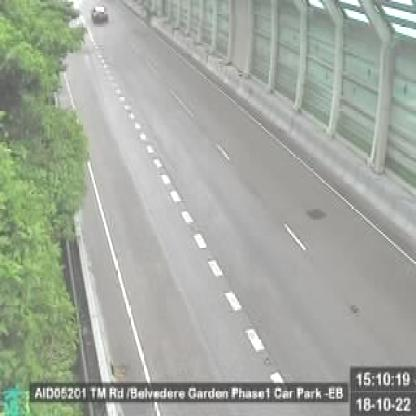Car: (90, 2, 108, 24)
